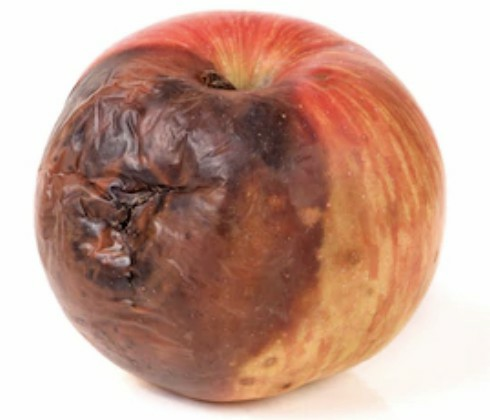rotten_apple: (34, 9, 445, 402)
